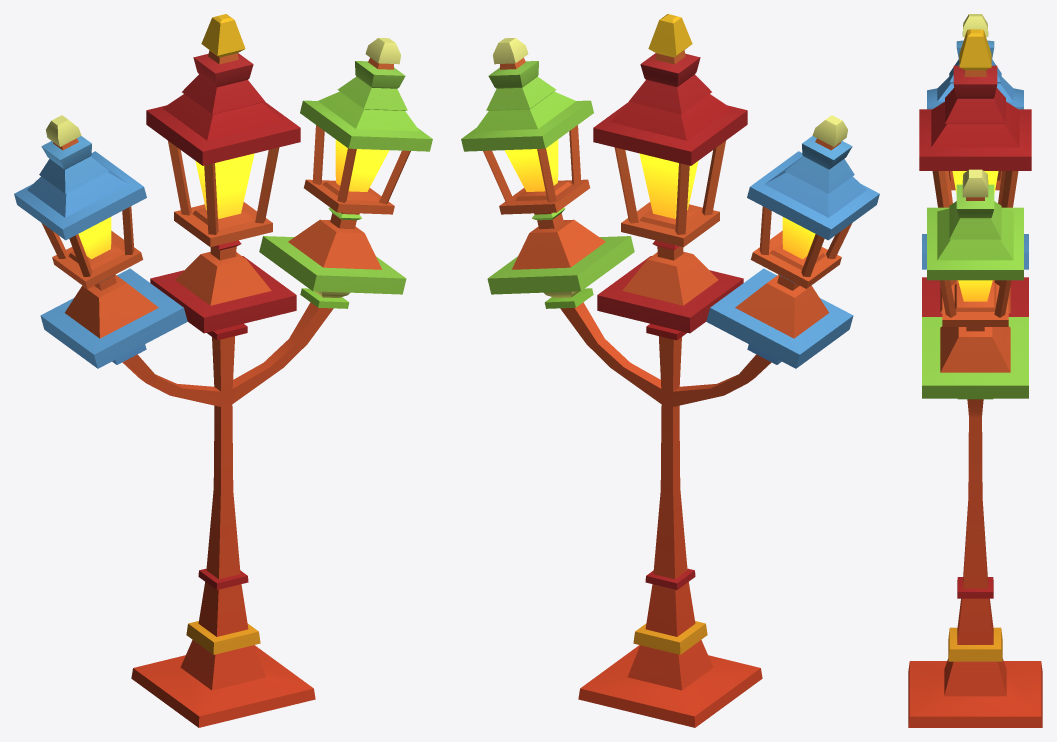
File: street_lamp.glb
The picture shows the model from 3 angles, left to right: view 1: azimuth 30°, elevation 25°; view 2: azimuth 150°, elevation 25°; view 3: azimuth 270°, elevation 25°; orthographic projection.
Visible parts, largest first — view 1: Lamp.003; view 2: Lamp.003; view 3: Lamp.003.
Boxes of the visible parts, <box> form: Lamp.003: <box>14,14,432,727</box>; Lamp.003: <box>461,14,879,727</box>; Lamp.003: <box>908,14,1042,727</box>.
Bounding box in the file's own units: 1.44 × 2.5 × 0.4539.
1 material, 1 textured.
